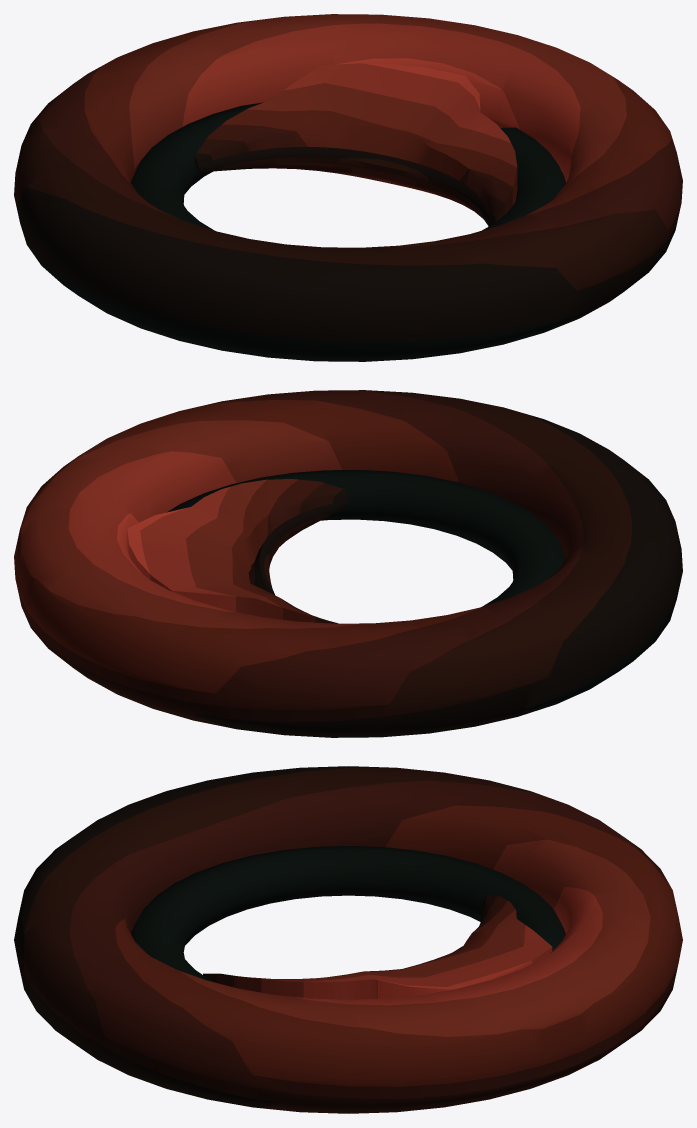
Rendered from pulse_ring.glb.
3 renders of one model, top to bottom at view 1: azimuth 30°, elevation 25°; view 2: azimuth 150°, elevation 25°; view 3: azimuth 270°, elevation 25°, orthographic.
Visible parts, largest first — view 1: pulse_ring_band, pulse_ring_crescent, pulse_ring_lip; view 2: pulse_ring_band, pulse_ring_crescent, pulse_ring_lip; view 3: pulse_ring_band, pulse_ring_lip, pulse_ring_crescent.
Boxes of the visible parts, x1=… form: pulse_ring_band: x1=14, y1=14, x2=682, y2=361; pulse_ring_crescent: x1=194, y1=63, x2=517, y2=226; pulse_ring_lip: x1=131, y1=102, x2=565, y2=230; pulse_ring_band: x1=14, y1=390, x2=682, y2=737; pulse_ring_crescent: x1=127, y1=479, x2=347, y2=623; pulse_ring_lip: x1=167, y1=470, x2=565, y2=606; pulse_ring_band: x1=14, y1=766, x2=682, y2=1113; pulse_ring_lip: x1=131, y1=846, x2=565, y2=982; pulse_ring_crescent: x1=203, y1=896, x2=552, y2=999.
Bounding box in the file's own units: 12.1 × 1.9 × 12.1.
